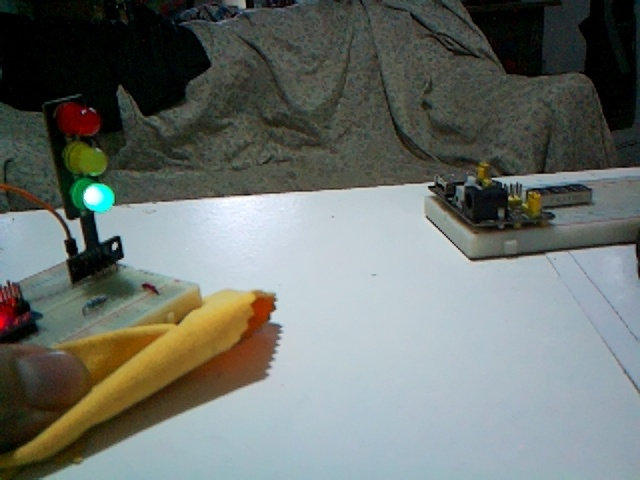traffic_light_green: (43, 95, 114, 214)
